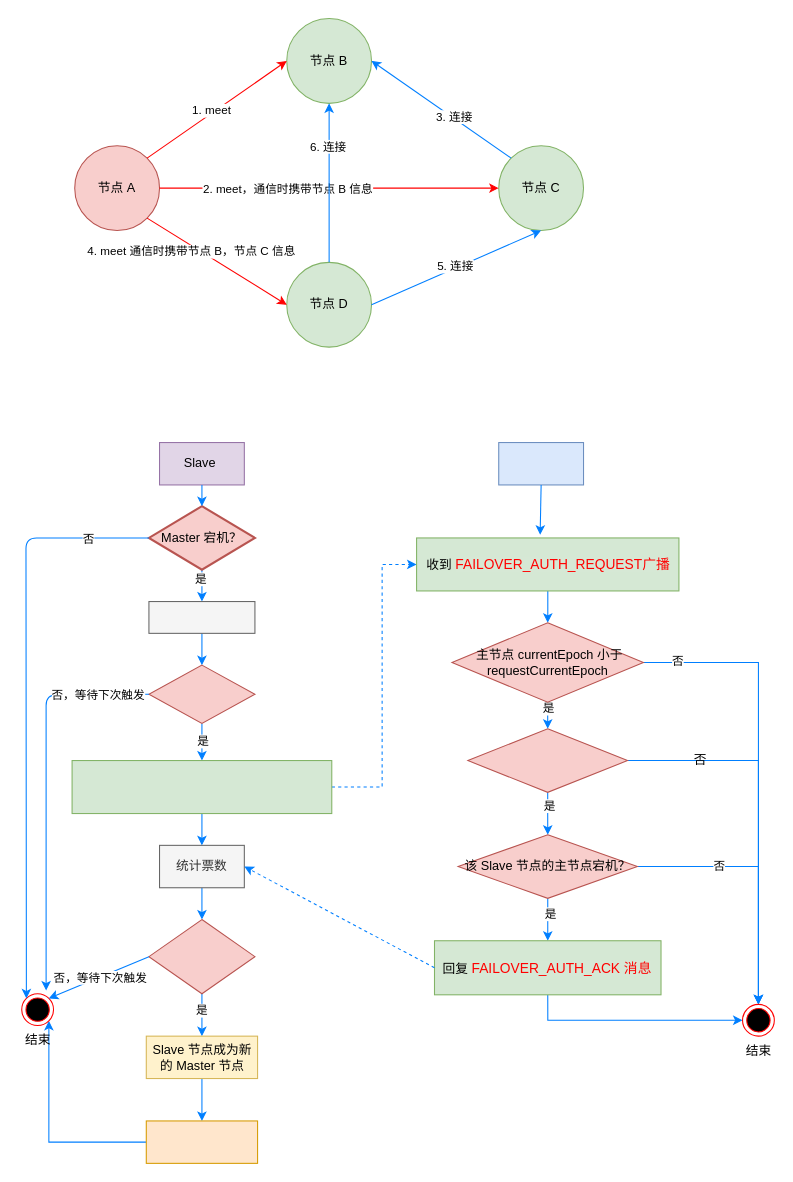
Some shapes in this 793 by 1182 pixel diagram are drawn without their labels. Each missing label, with the centre of its shape:
"currentEpoch++ 发送 FAILOVER_AUTH_REQUEST广播" belongs at point (201, 786).
"Master" belongs at point (541, 463).
"尚未在该 Epoch 投过票？" belongs at point (547, 760).
"广播主从切换完成" belongs at point (201, 1141).
"得票超过半数？" belongs at point (201, 956).
"计算当前节点发起选举的时间" belongs at point (201, 616).
"选举时间到达？" belongs at point (201, 693).
